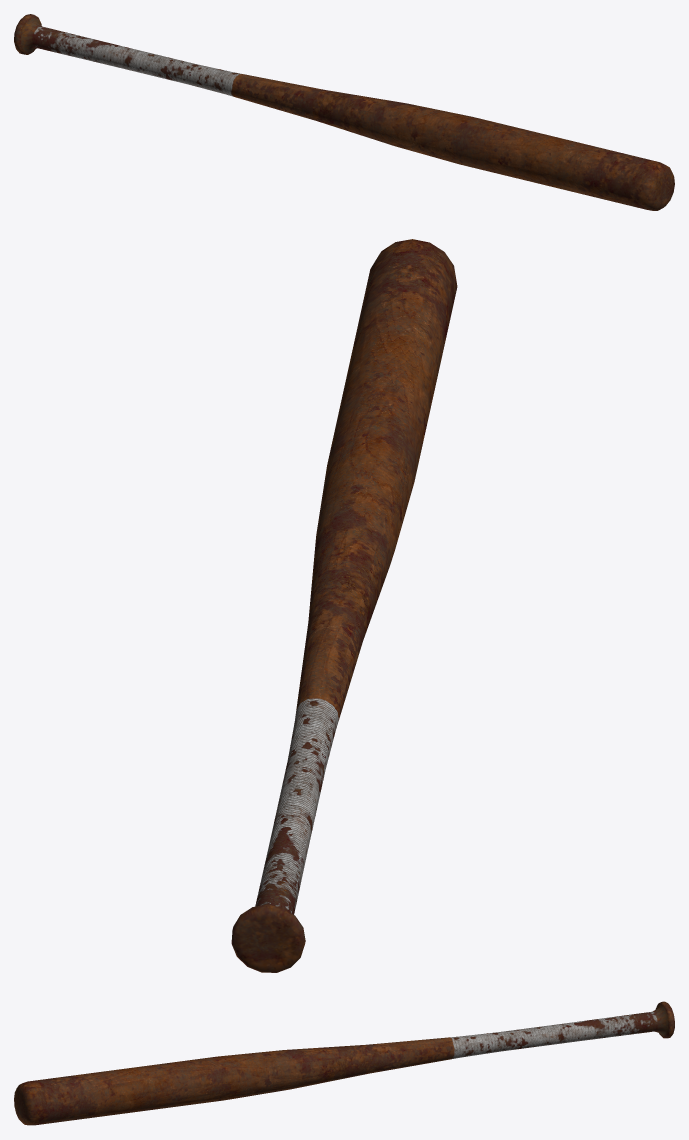
File: Anim_idle_bate_objetos.0017.obj
3 renders of one model, top to bottom at view 1: azimuth 30°, elevation 25°; view 2: azimuth 150°, elevation 25°; view 3: azimuth 270°, elevation 25°, orthographic. The views are drawn at different scales.
Visible parts, largest first — view 1: Bate1; view 2: Bate1; view 3: Bate1.
Boxes of the visible parts, x1,y1,x2,y2 form: Bate1: [14, 14, 674, 210]; Bate1: [231, 239, 457, 972]; Bate1: [14, 1001, 674, 1125].
Size of the model in its own units: 2.42 by 0.6046 by 4.96.
